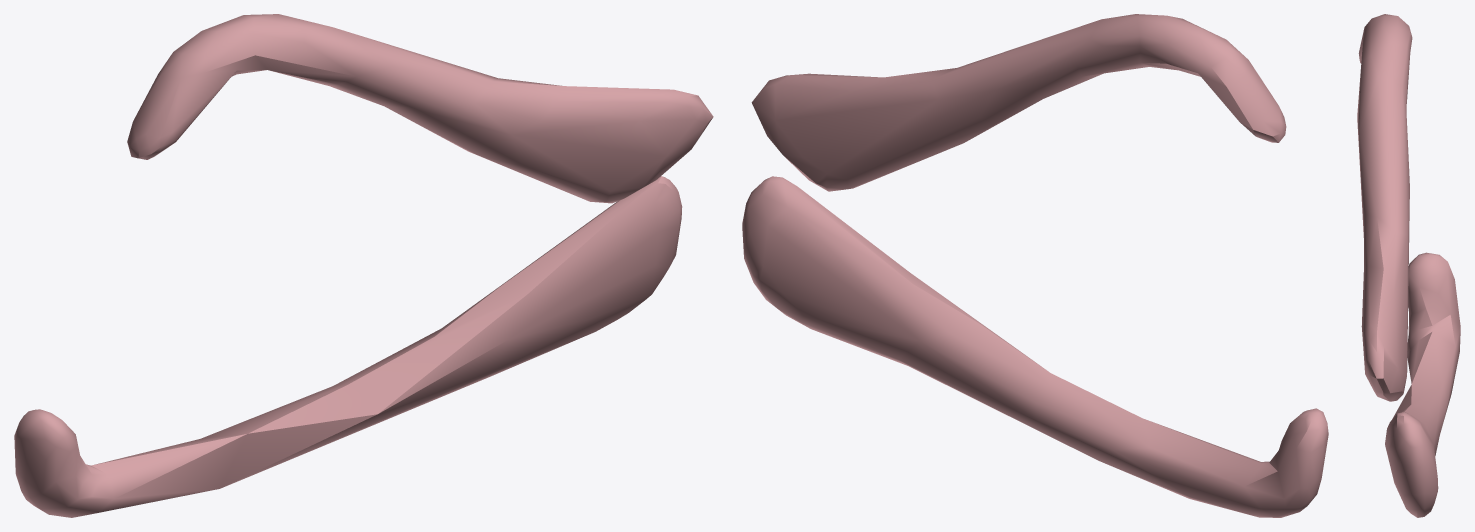
Rendered from fma59582_fj1349.glb.
3 views of the same model, side by side, from view 1: azimuth 30°, elevation 25°; view 2: azimuth 150°, elevation 25°; view 3: azimuth 270°, elevation 25° (orthographic). The views are drawn at different scales.
Visible parts, largest first — view 1: FMA59582_FJ1349; view 2: FMA59582_FJ1349; view 3: FMA59582_FJ1349.
Part boxes in pixels (x1,y1,x2,y2): FMA59582_FJ1349: [14, 14, 713, 517]; FMA59582_FJ1349: [742, 14, 1328, 517]; FMA59582_FJ1349: [1357, 14, 1460, 517].
Size of the model in its own units: 0.00582 by 0.00413 by 0.000965.
